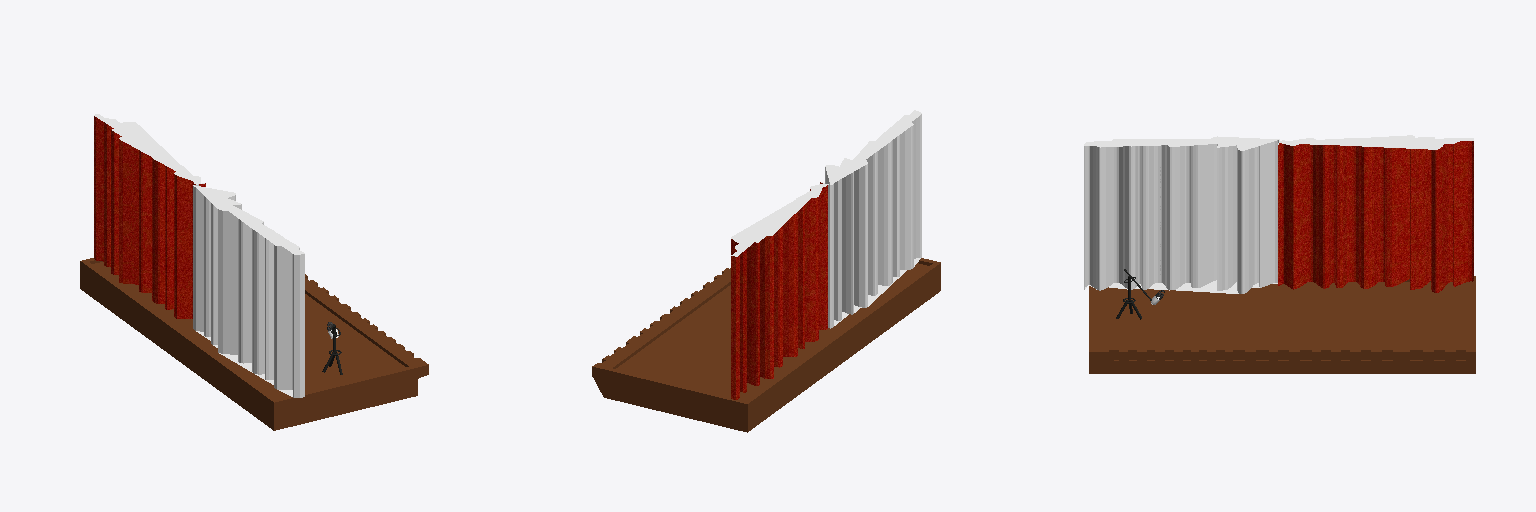
The picture shows the model from 3 angles: view 1: azimuth 30°, elevation 25°; view 2: azimuth 150°, elevation 25°; view 3: azimuth 270°, elevation 25°; orthographic projection.
Parts seen in each view (by area): view 1: Mesh2 Model, Mesh1 Model; view 2: Mesh2 Model, Mesh1 Model; view 3: Mesh2 Model, Mesh1 Model.
Part boxes in pixels (left/top/right/bottom): Mesh2 Model: left=94, top=114, right=304, bottom=397; Mesh1 Model: left=80, top=258, right=428, bottom=430; Mesh2 Model: left=731, top=110, right=921, bottom=399; Mesh1 Model: left=592, top=258, right=940, bottom=432; Mesh2 Model: left=1084, top=135, right=1473, bottom=293; Mesh1 Model: left=1089, top=276, right=1475, bottom=373.
Bounding box in the file's own units: 169 × 179 × 369.
Materials: 5 (2 with a texture image).